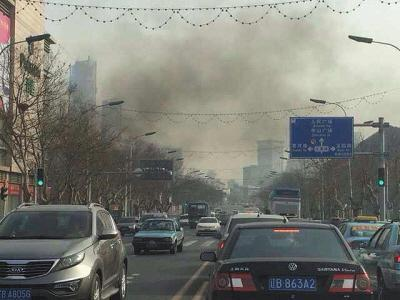smoke: (85, 40, 296, 164)
